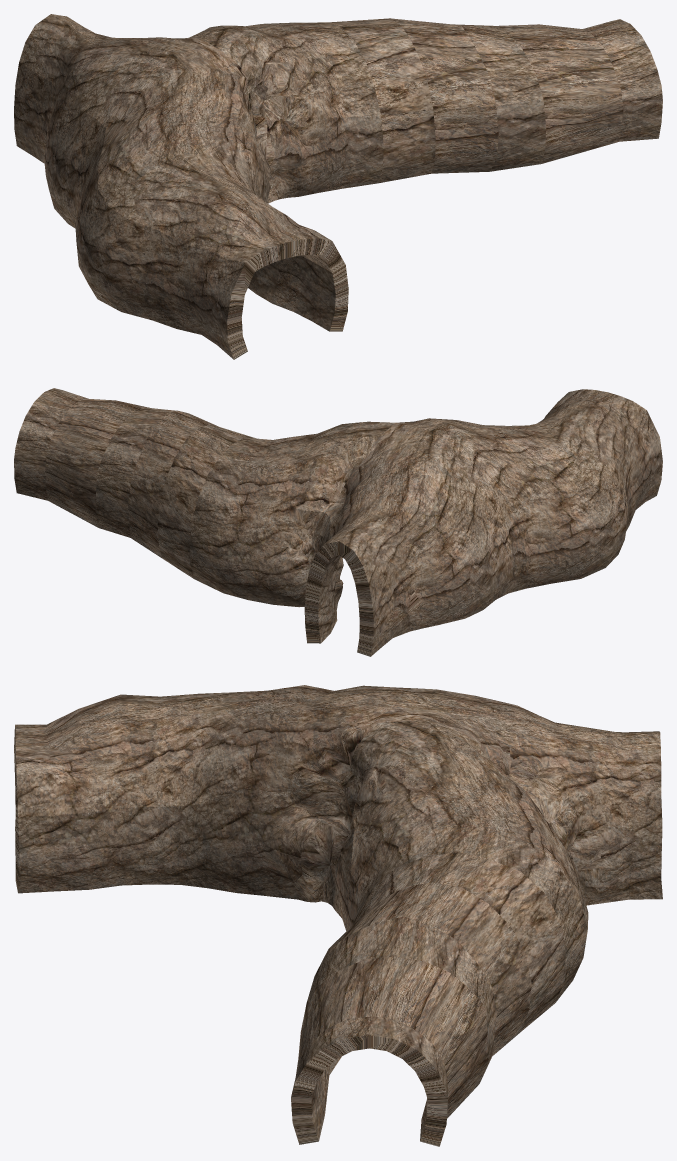
File: wall02.FBX
3 renders of one model, top to bottom at view 1: azimuth 30°, elevation 25°; view 2: azimuth 150°, elevation 25°; view 3: azimuth 270°, elevation 25°, orthographic. The views are drawn at different scales.
Parts seen in each view (by area): view 1: ding, di; view 2: di, ding; view 3: ding, di.
Boxes of the visible parts, bbox=[...] form: ding: bbox=[19, 14, 656, 273]; di: bbox=[14, 62, 662, 359]; di: bbox=[14, 410, 662, 656]; ding: bbox=[20, 388, 646, 583]; ding: bbox=[15, 685, 661, 1070]; di: bbox=[14, 729, 662, 1146].
Size of the model in its own units: 517 by 141 by 412.
